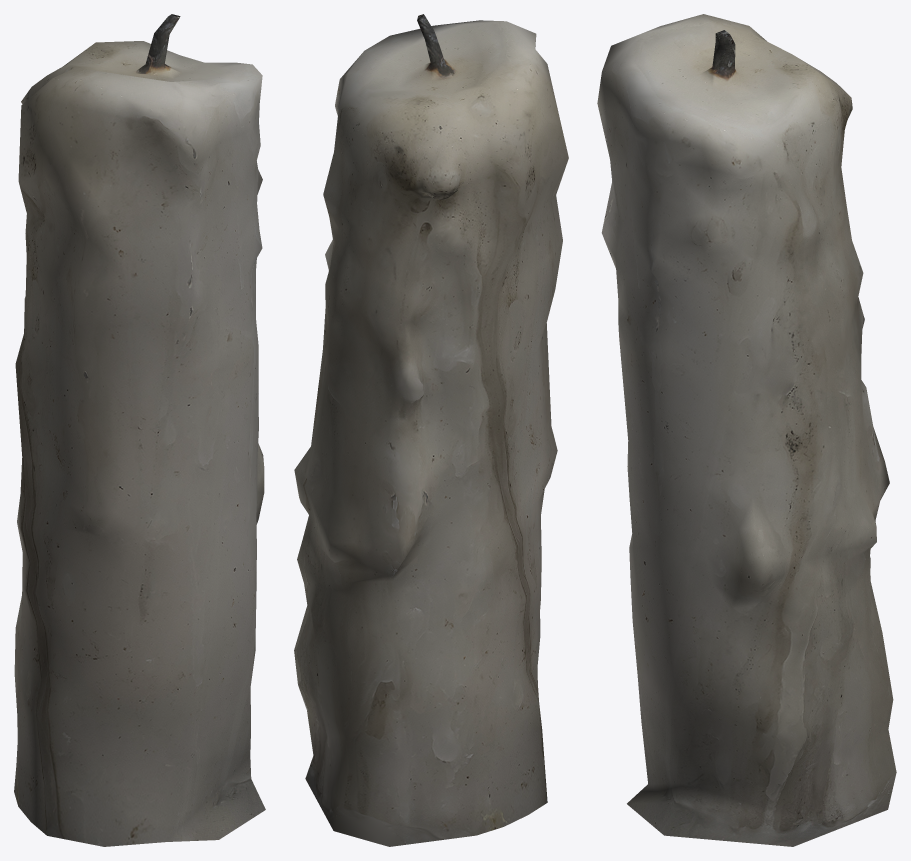
The model's file is sm_Candle_01_01.fbx.
The picture shows the model from 3 angles, left to right: view 1: azimuth 30°, elevation 25°; view 2: azimuth 150°, elevation 25°; view 3: azimuth 270°, elevation 25°; orthographic projection. The views are drawn at different scales.
Visible parts, largest first — view 1: sm_Candle_01_01_LOD0; view 2: sm_Candle_01_01_LOD0; view 3: sm_Candle_01_01_LOD0.
Boxes of the visible parts, x1,y1,x2,y2 form: sm_Candle_01_01_LOD0: (14, 14, 265, 846); sm_Candle_01_01_LOD0: (294, 14, 568, 846); sm_Candle_01_01_LOD0: (597, 14, 896, 846).
Bounding box in the file's own units: 7.9 × 8.62 × 24.58.
